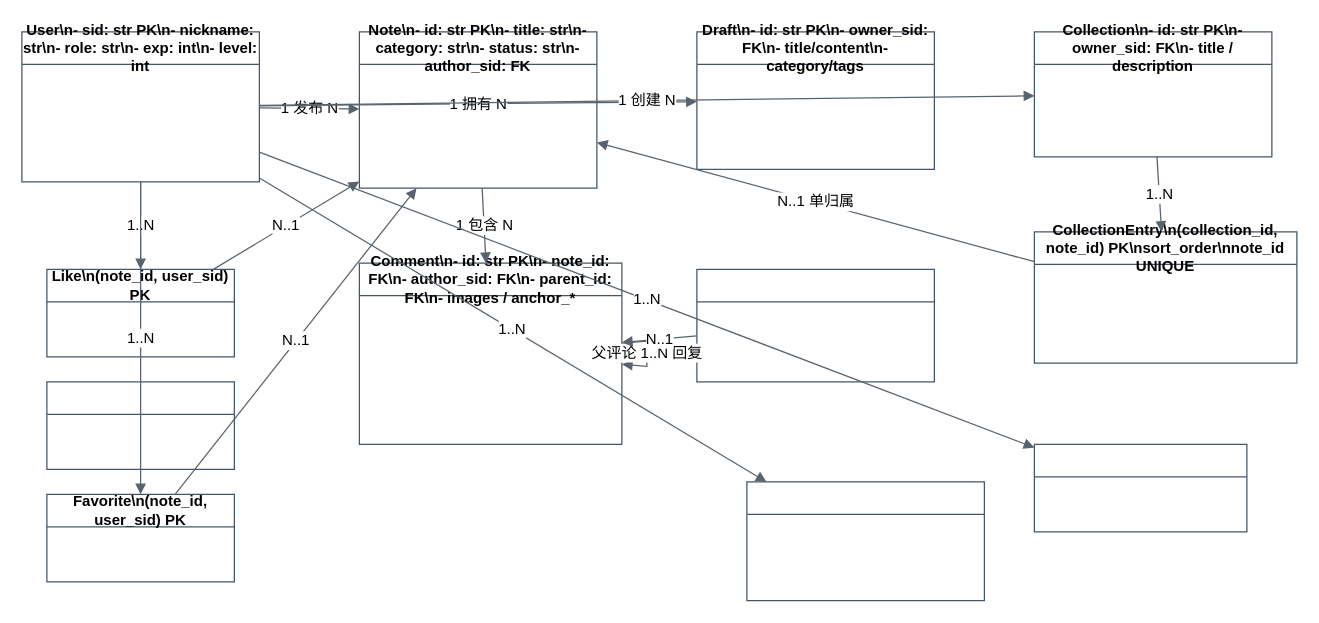
Image size: 1319x623. Some labels were removed from this diagram. The shapes that lost their labels are listed below. From the top down, each one's box as (x1, y1, x2, y2) in pixels, then its label:
(696, 268, 934, 382): CommentReaction\n(comment_id, user_sid) PK\nkind: like/dislike
(46, 381, 234, 469): NoteDislike\n(note_id, user_sid) PK
(1033, 443, 1247, 532): CheckIn\n(user_sid, date) PK
(746, 481, 984, 601): XpEvent\n- id: int PK\n- user_sid: FK\n- source_type / delta
